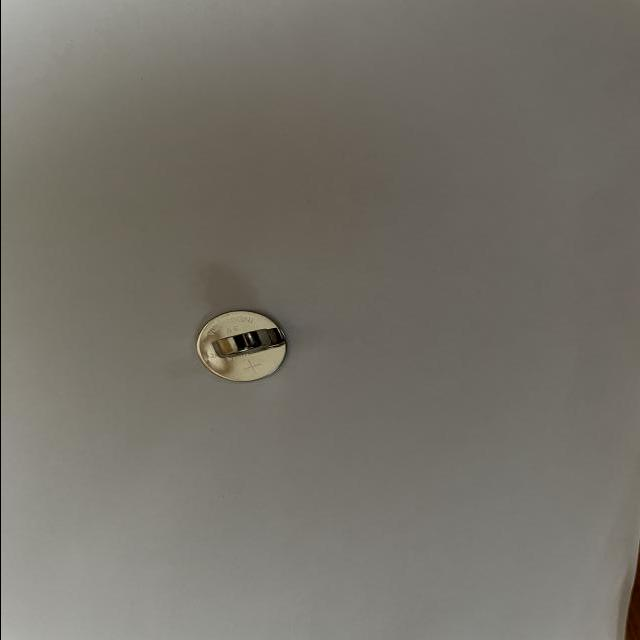COIN: (197, 310, 286, 380), (210, 328, 286, 360)
